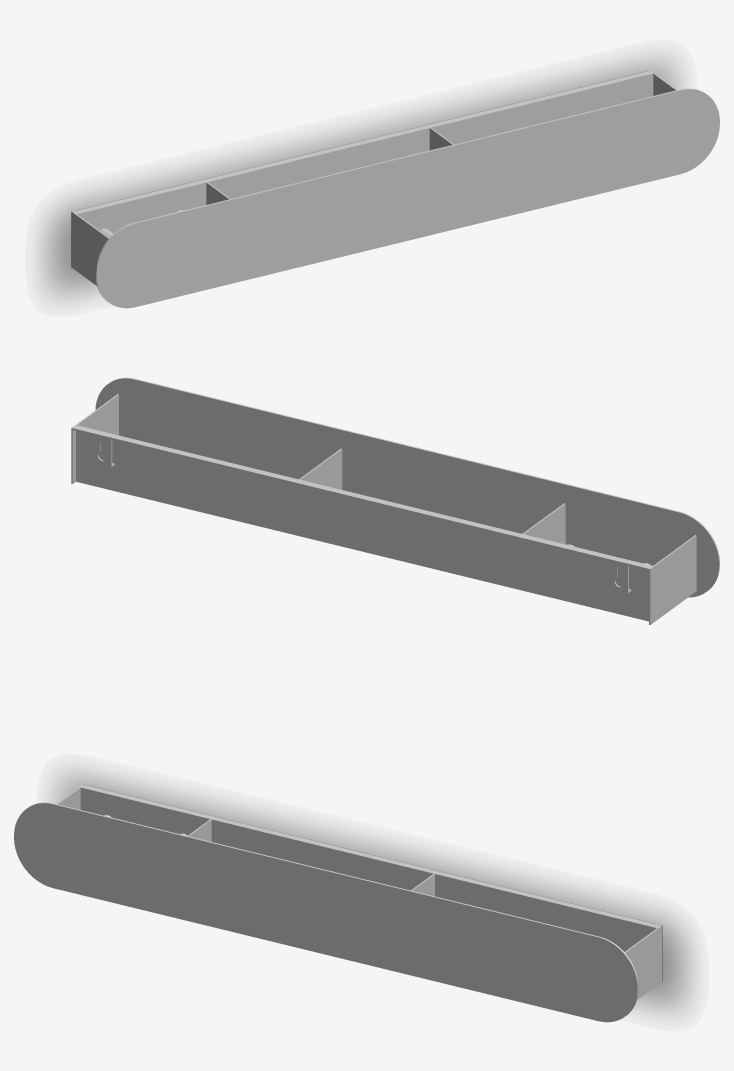
File: round-patron.3b32c8c08e.ar.glb
3 renders of one model, top to bottom at view 1: azimuth 30°, elevation 25°; view 2: azimuth 150°, elevation 25°; view 3: azimuth 330°, elevation 25°, orthographic.
Visible parts, largest first — view 1: NAUO1, object 2; view 2: NAUO1; view 3: NAUO1, object 2.
Part boxes in pixels (left/top/right/bottom): NAUO1: left=71, top=70, right=719, bottom=308; object 2: left=42, top=59, right=679, bottom=297; NAUO1: left=71, top=377, right=719, bottom=624; NAUO1: left=14, top=784, right=662, bottom=1022; object 2: left=54, top=773, right=691, bottom=1011.
Size of the model in its own units: 0.78 by 0.17 by 0.092.
Materials: 2 (1 with a texture image).
